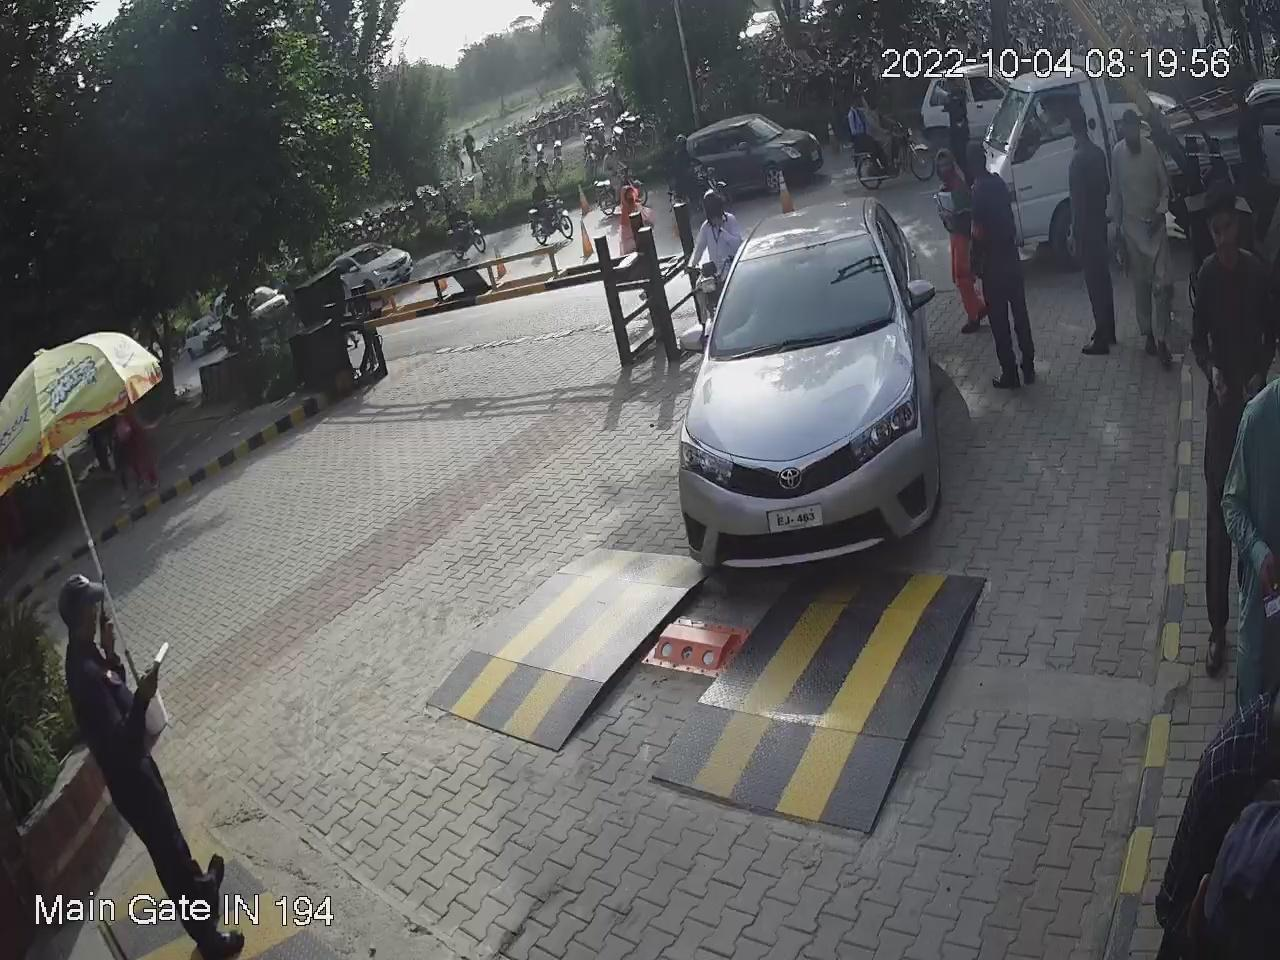windshield: (706, 225, 910, 362)
